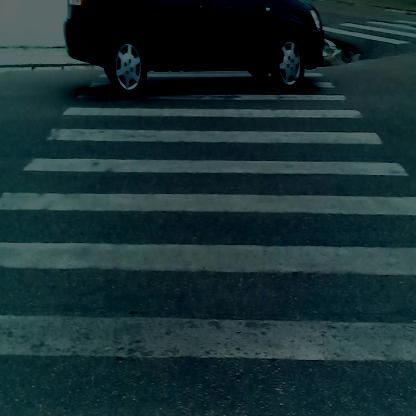crosswalk: (55, 68, 416, 416)
